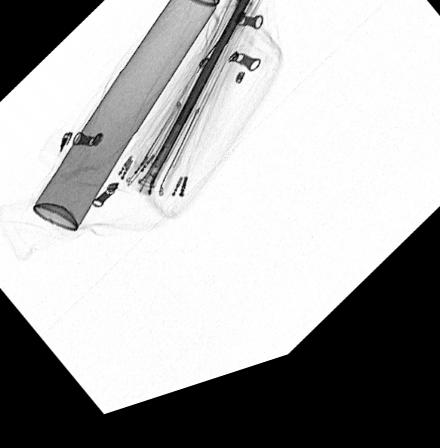Sprayer: (31, 0, 229, 235)
